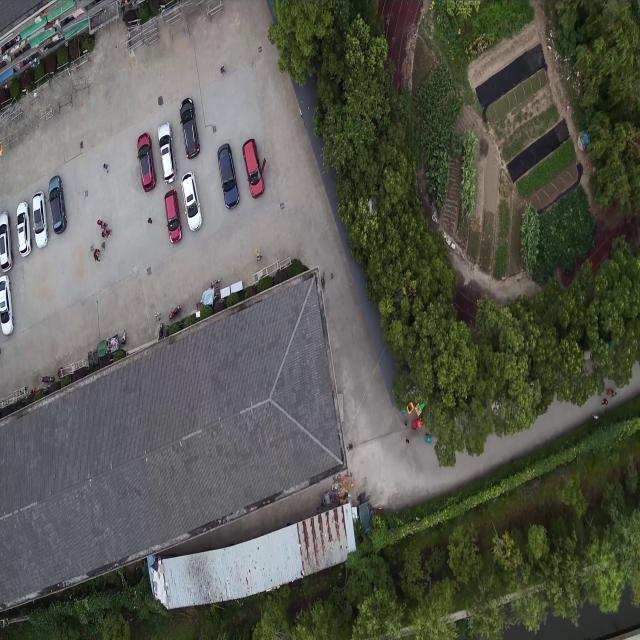UAV: (363, 198, 377, 218)
